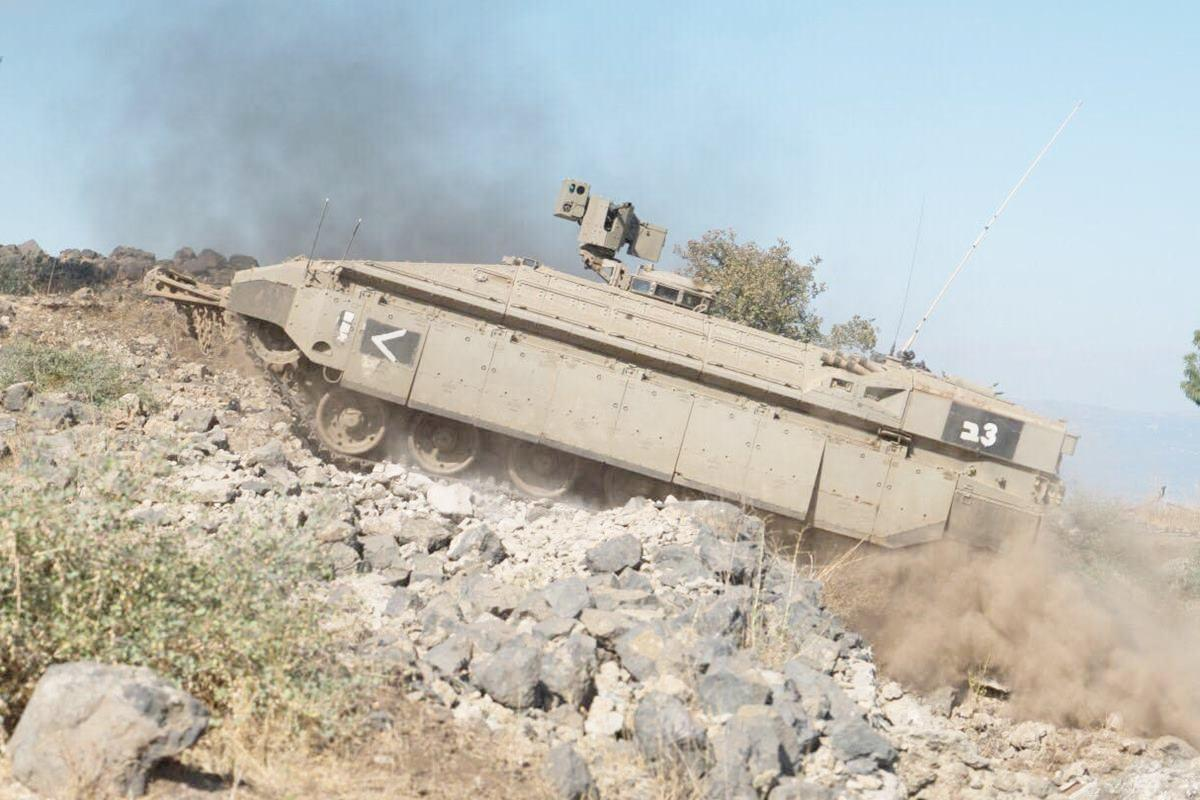MIL_IFV: (227, 170, 1085, 645)
